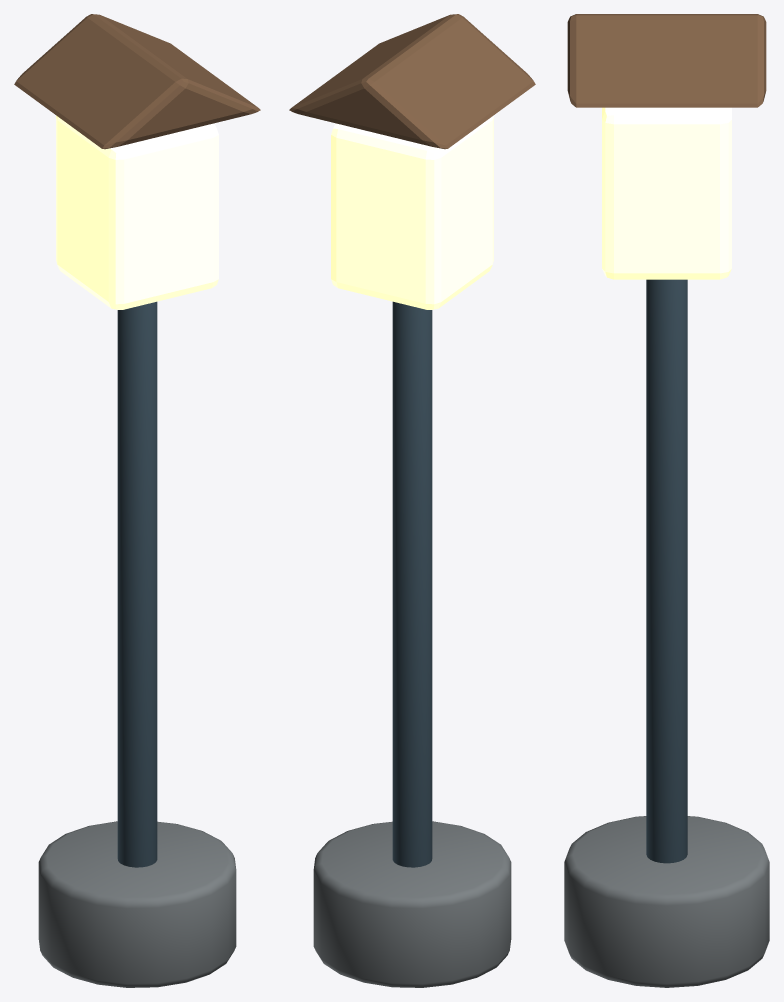
The model's file is lamp.glb.
The picture shows the model from 3 angles, left to right: view 1: azimuth 30°, elevation 25°; view 2: azimuth 150°, elevation 25°; view 3: azimuth 270°, elevation 25°; orthographic projection. The views are drawn at different scales.
Parts seen in each view (by area): view 1: Geometry_Stone, Geometry_Glow, Geometry_Metal, Geometry_Wood; view 2: Geometry_Stone, Geometry_Glow, Geometry_Metal, Geometry_Wood; view 3: Geometry_Stone, Geometry_Metal, Geometry_Glow, Geometry_Wood.
Boxes of the visible parts, x1,y1,x2,y2 form: Geometry_Stone: [38, 821, 236, 987]; Geometry_Glow: [56, 115, 218, 309]; Geometry_Metal: [117, 301, 157, 867]; Geometry_Wood: [14, 14, 260, 149]; Geometry_Stone: [313, 821, 511, 987]; Geometry_Glow: [331, 115, 493, 309]; Geometry_Metal: [392, 301, 432, 867]; Geometry_Wood: [289, 14, 535, 149]; Geometry_Stone: [564, 816, 769, 987]; Geometry_Metal: [646, 279, 687, 863]; Geometry_Glow: [602, 107, 731, 279]; Geometry_Wood: [567, 14, 766, 107].
Size of the model in its own units: 0.6 by 3 by 0.6.
